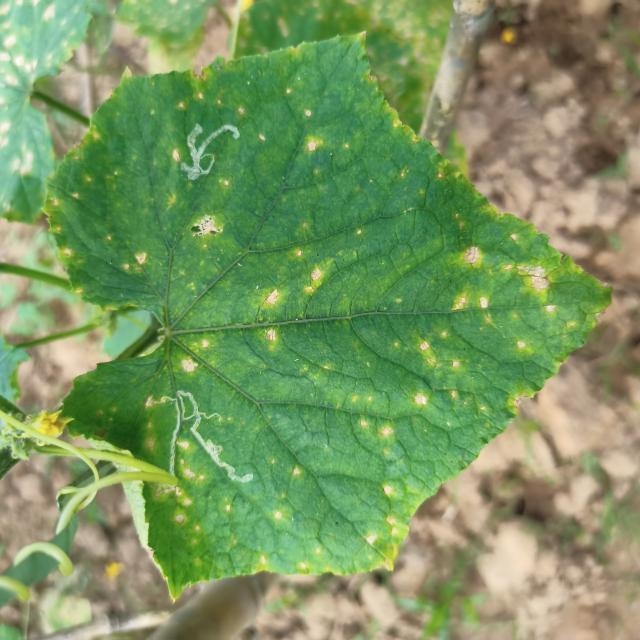disease_cucumber: (50, 192, 372, 396), (375, 221, 568, 505), (123, 423, 411, 602), (170, 85, 337, 184)
